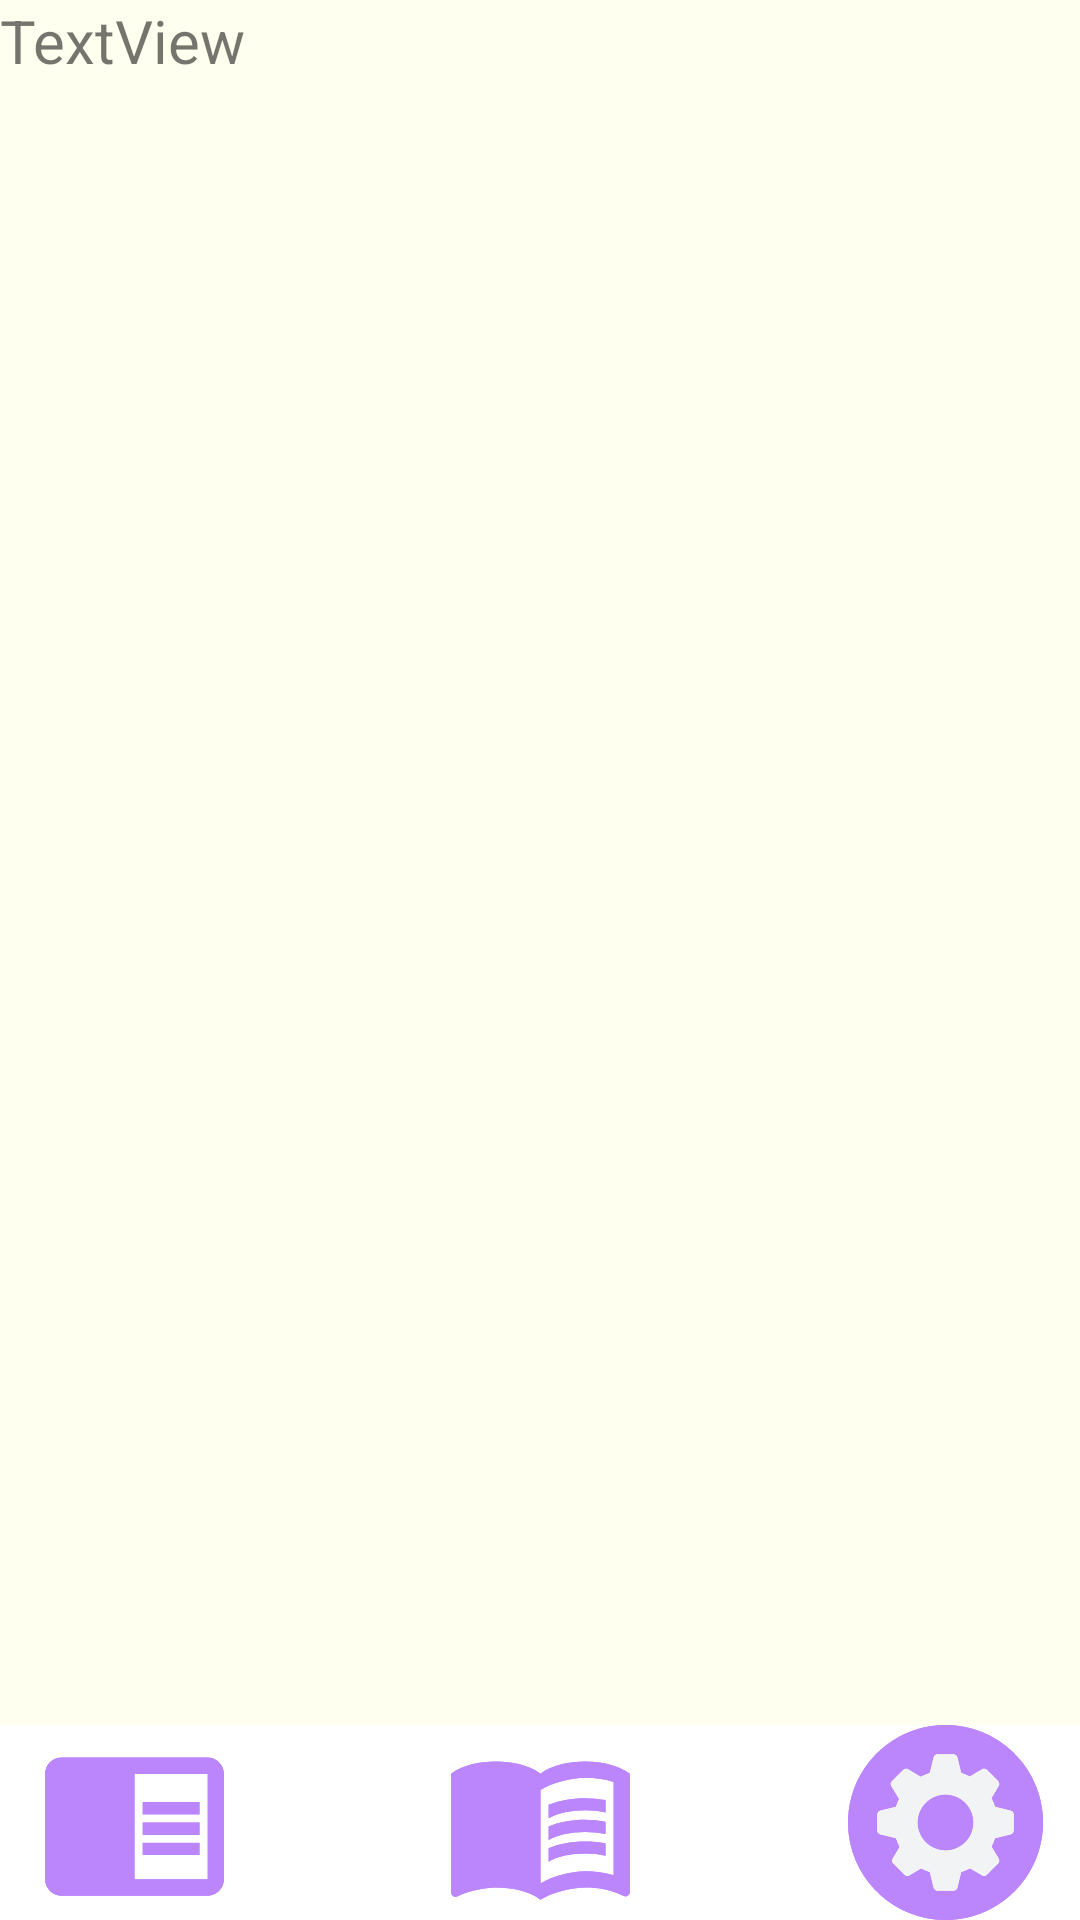

Named icons in this screenshot (1080px×1920px) and their bounding boxes, (x1, y1, x2, y2):
Books: (451, 1761, 630, 1900)
Settings: (848, 1725, 1043, 1920)
